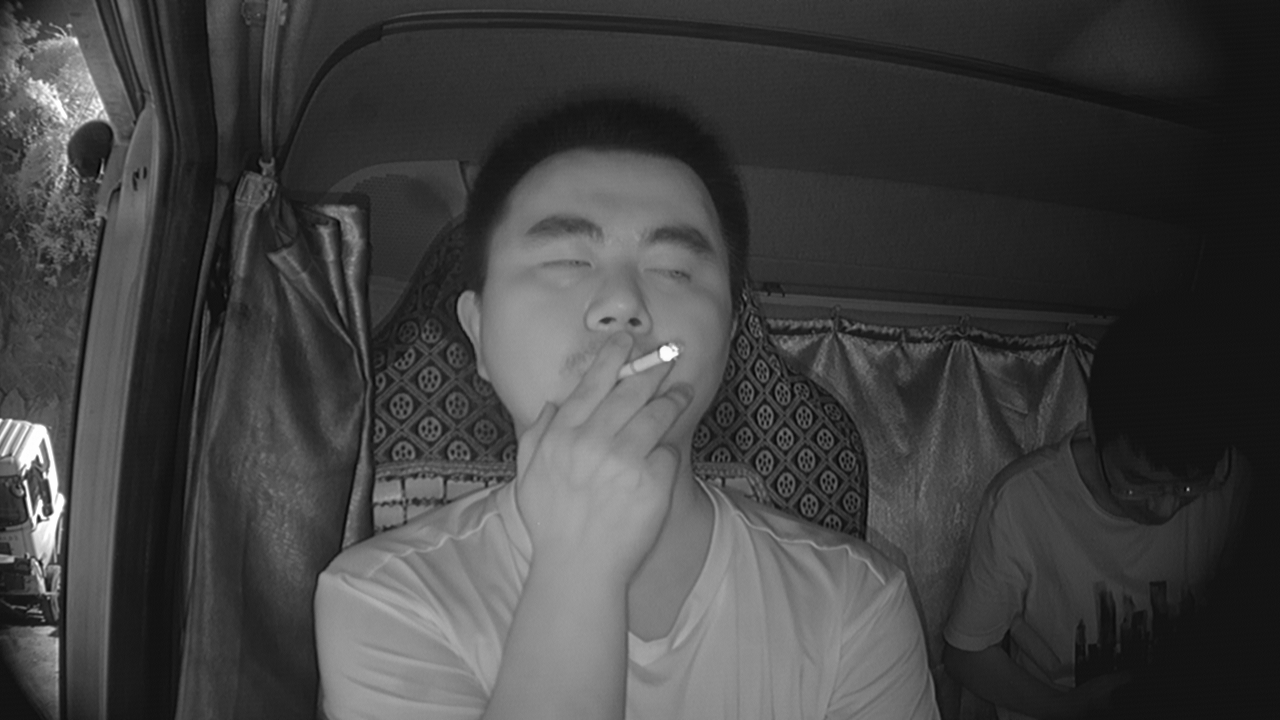hand: (515, 337, 691, 538)
